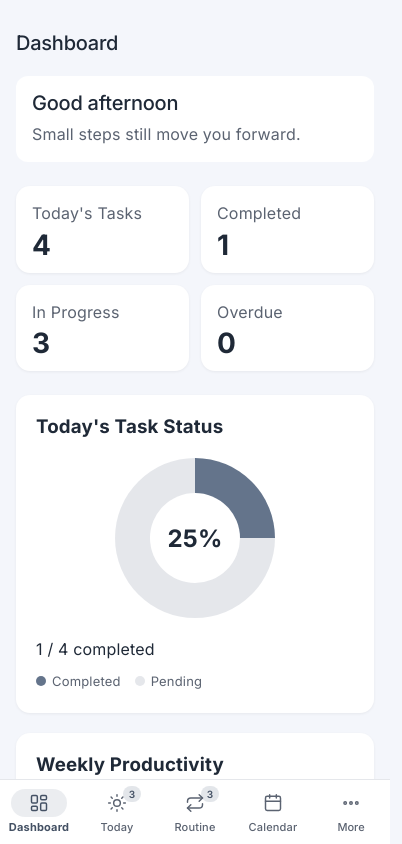
Test: App bottom navigation › opens the More menu and navigates to a page inside it
Click the button "More" at [351, 812], box x1=312 y1=780 x2=390 y2=843
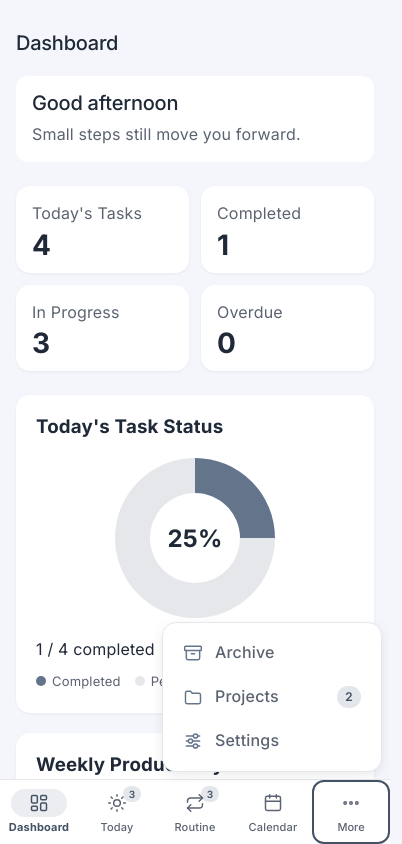
Expected: the button "More" is expanded, x1=312 y1=780 x2=390 y2=843
Click the link "Settings" at [231, 741], box x1=183 y1=730 x2=279 y2=751
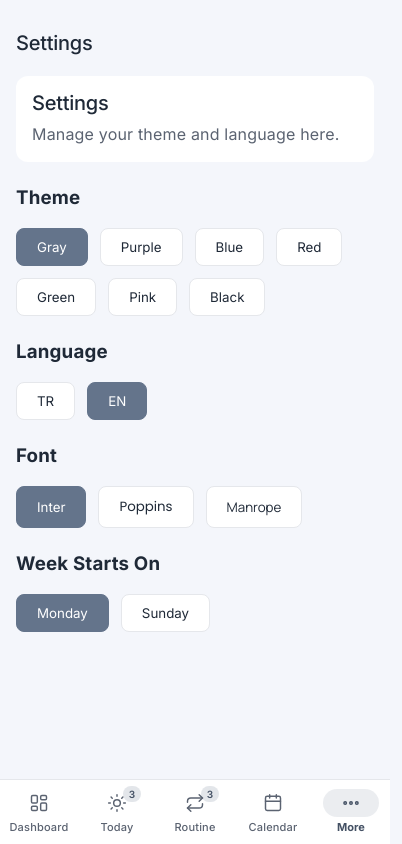
Expected: the button "More" is collapsed, x1=312 y1=780 x2=390 y2=843
